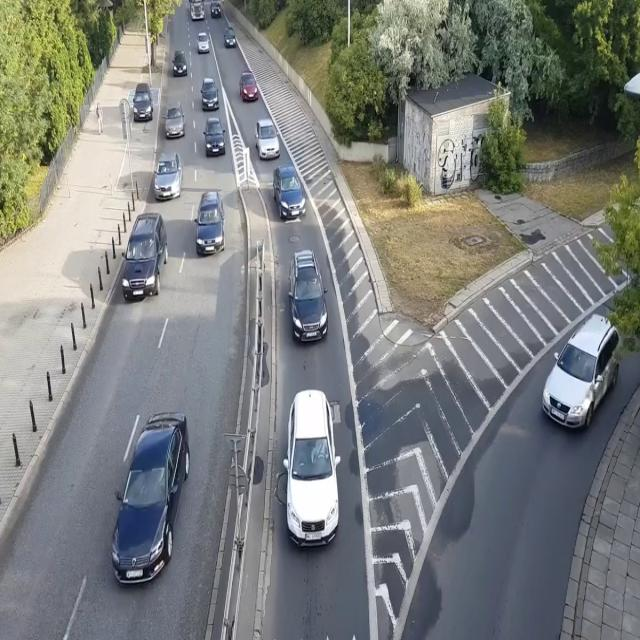car: (110, 410, 191, 584), (539, 313, 622, 430), (283, 388, 341, 547), (120, 213, 168, 303), (288, 246, 330, 343), (272, 167, 308, 225), (195, 191, 226, 252), (152, 152, 184, 202), (203, 116, 227, 157), (163, 103, 187, 142), (132, 81, 154, 122), (199, 76, 220, 111), (239, 70, 259, 100), (172, 50, 188, 77), (197, 32, 210, 56), (222, 27, 236, 49), (210, 2, 221, 20)
truck: (188, 0, 206, 23)
